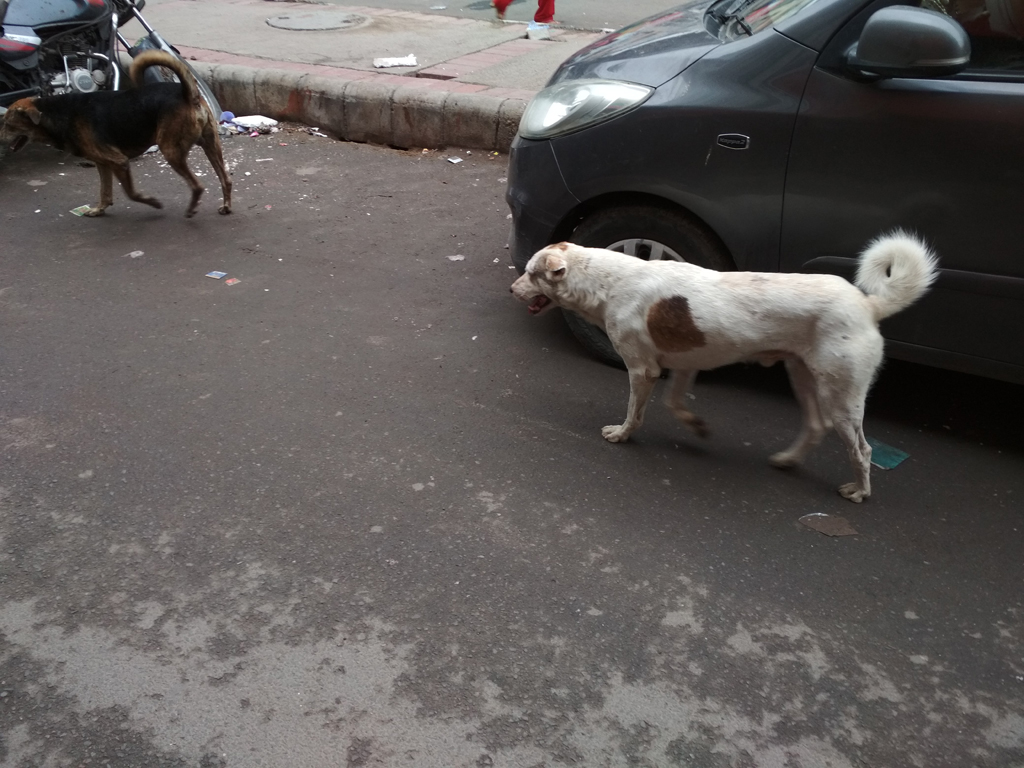dog: (508, 228, 938, 502), (1, 50, 234, 217)
